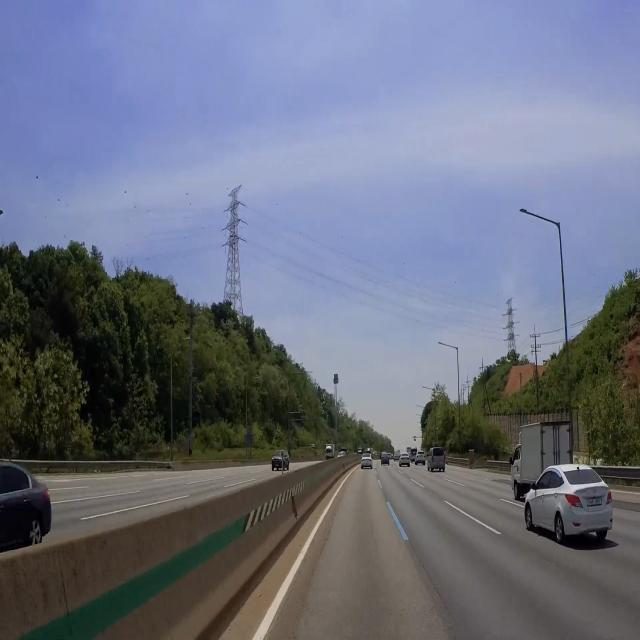car: (582, 495, 610, 510), (362, 460, 372, 467), (434, 459, 442, 467), (417, 454, 425, 462), (382, 458, 389, 463), (402, 460, 409, 465)
